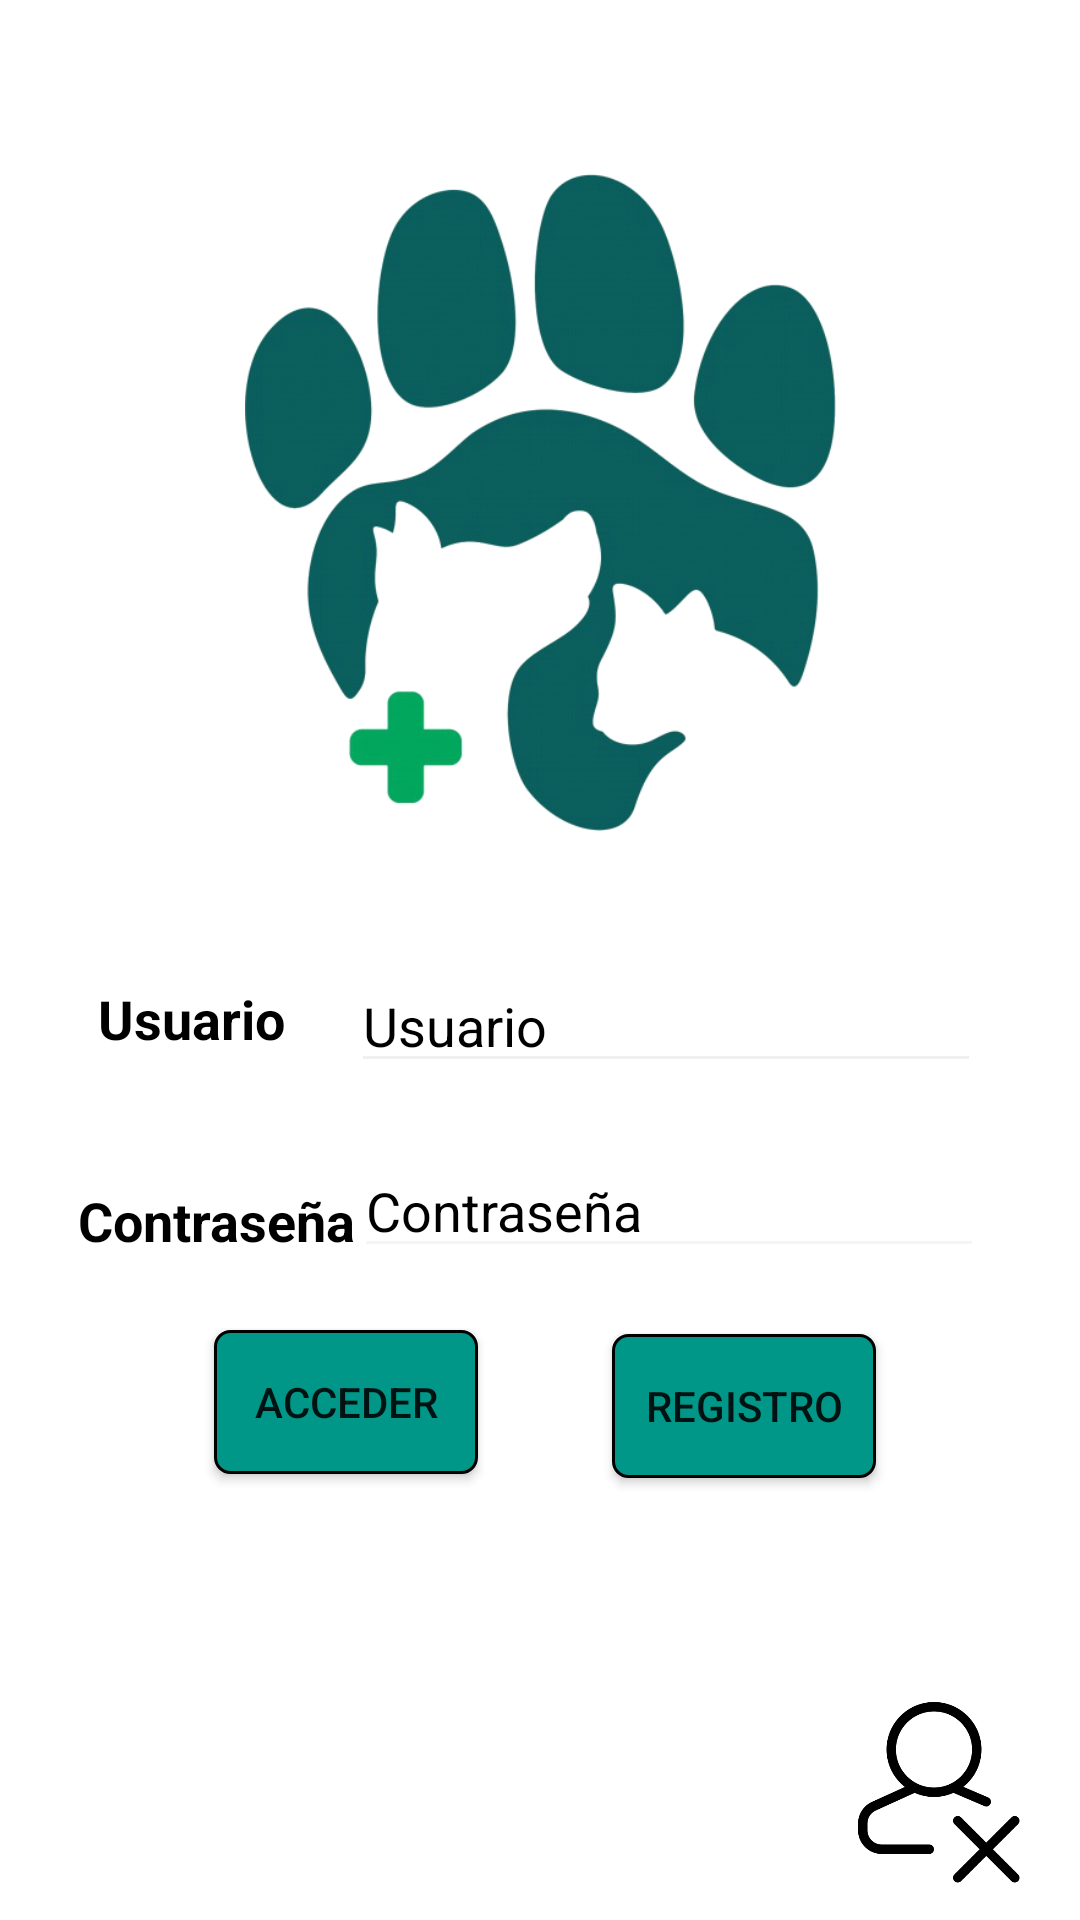

Where icons sit on this 1080 × 1920 app screen, as (x1, y1, x2, y2):
delete: (858, 1702, 1020, 1883)
